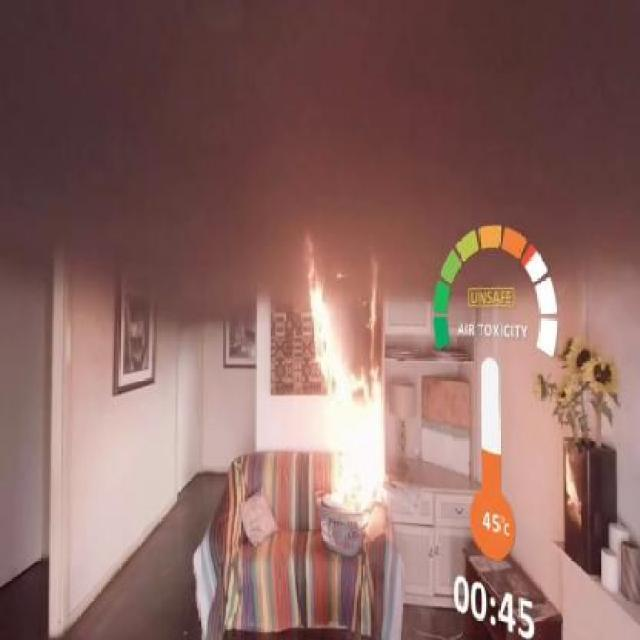fire: (282, 233, 404, 550)
smoke: (137, 21, 463, 230)
